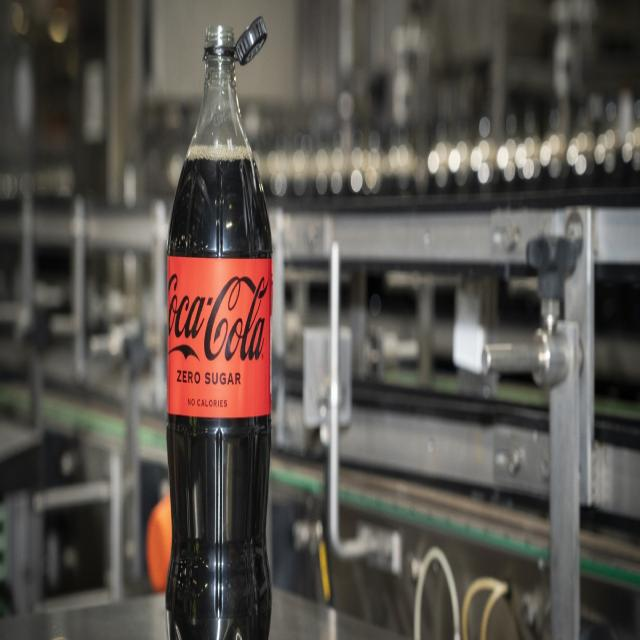bottle: (162, 13, 276, 640)
